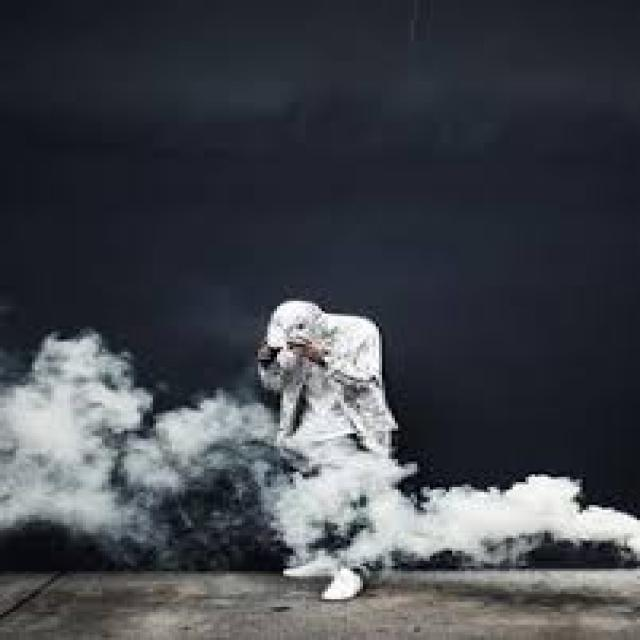smoke: (0, 341, 640, 618)
